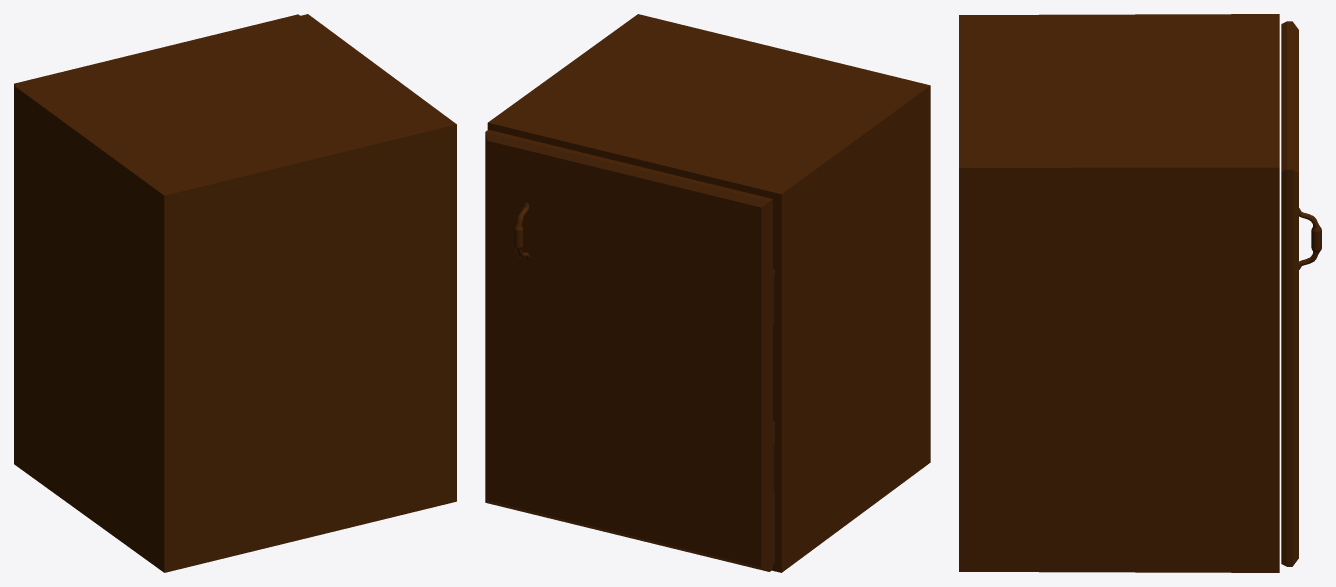
File: Cupboards_R.FBX
The picture shows the model from 3 angles, left to right: view 1: azimuth 30°, elevation 25°; view 2: azimuth 150°, elevation 25°; view 3: azimuth 270°, elevation 25°; orthographic projection. The views are drawn at different scales.
Visible parts, largest first — view 1: Cupboard_R_Box_LP, Cupboard_R_Door_LP; view 2: Cupboard_R_Door_LP, Cupboard_R_Box_LP; view 3: Cupboard_R_Box_LP, Cupboard_R_Door_LP.
Part boxes in pixels (x1,y1,x2,y2): Cupboard_R_Box_LP: (14, 14, 456, 572); Cupboard_R_Door_LP: (14, 14, 299, 85); Cupboard_R_Door_LP: (485, 130, 774, 571); Cupboard_R_Box_LP: (487, 14, 930, 572); Cupboard_R_Box_LP: (959, 14, 1279, 572); Cupboard_R_Door_LP: (1281, 21, 1321, 566).
Bounding box in the file's own units: 56.41 × 69.45 × 56.35.
